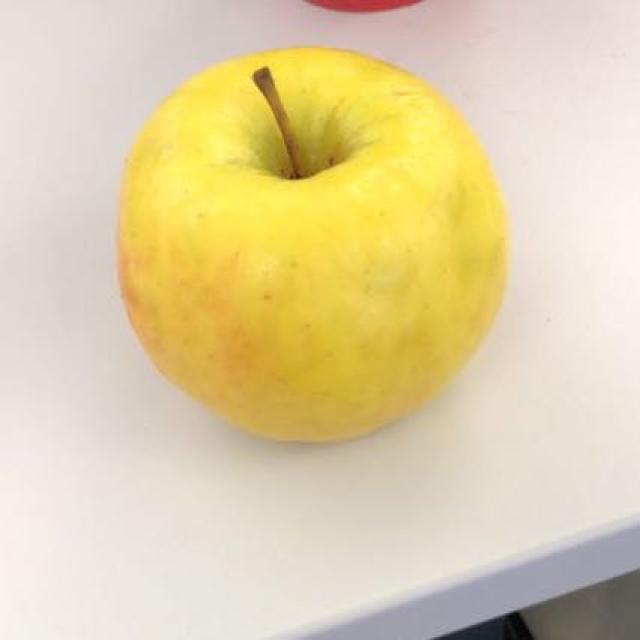Apple: (113, 34, 516, 458)
